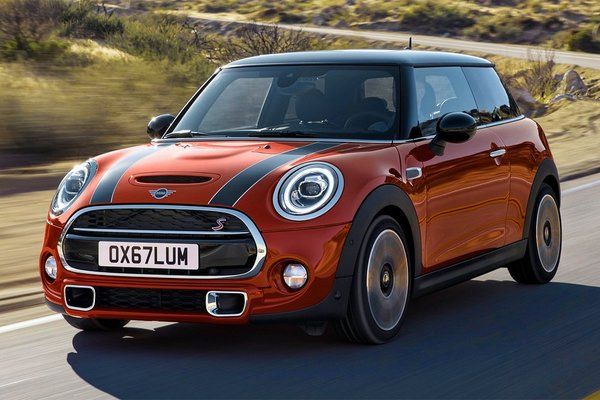car: (37, 46, 582, 340)
